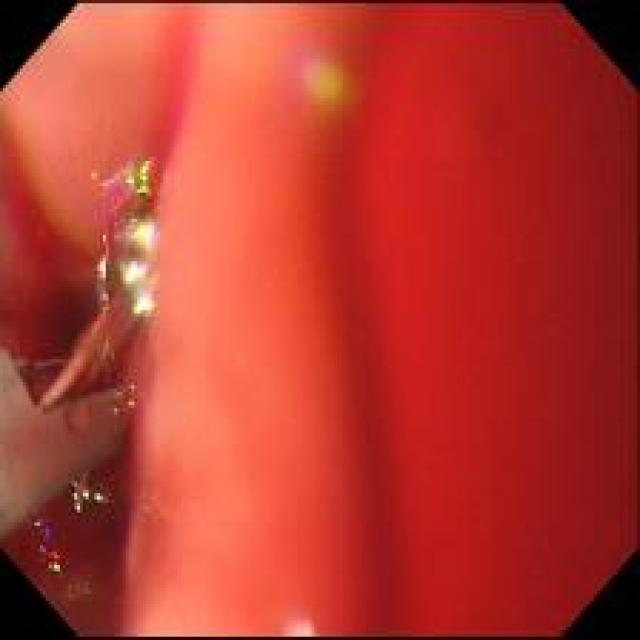color misalignment: (246, 2, 638, 634), (100, 153, 158, 251), (287, 43, 357, 116), (31, 513, 61, 576), (123, 215, 153, 256)
instrument: (2, 209, 158, 540)
specularity: (123, 263, 146, 283), (134, 296, 151, 314), (102, 261, 108, 281)
